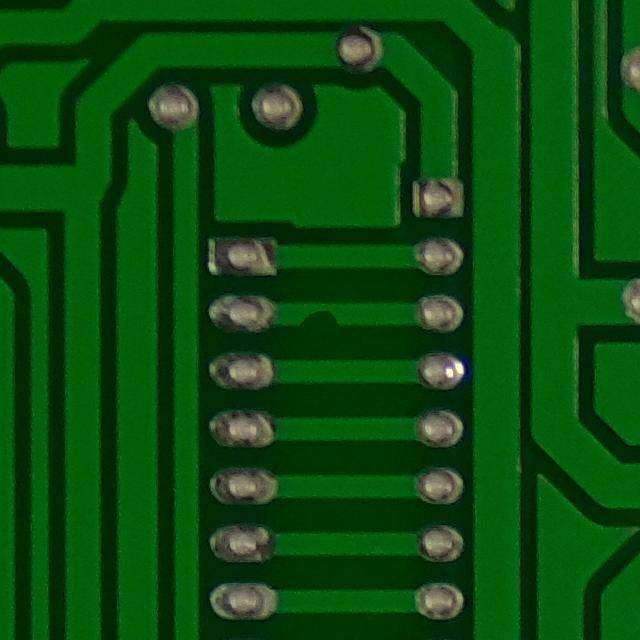mouse_bite: (289, 299, 352, 341)
